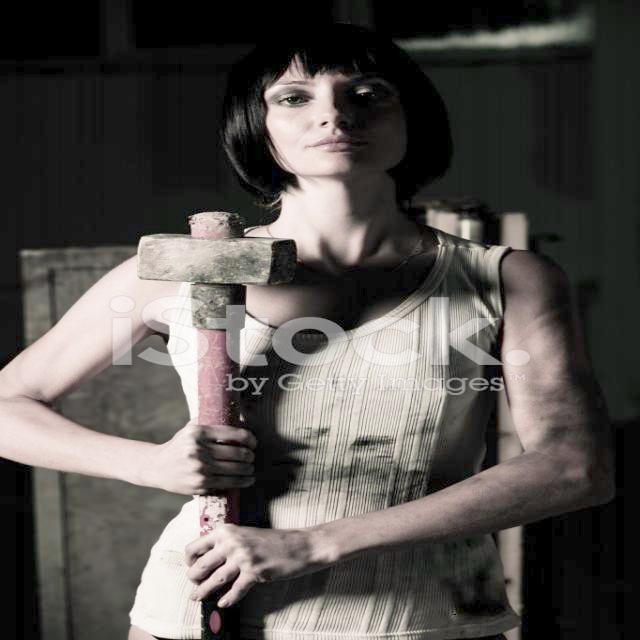hammer: (108, 200, 308, 640)
